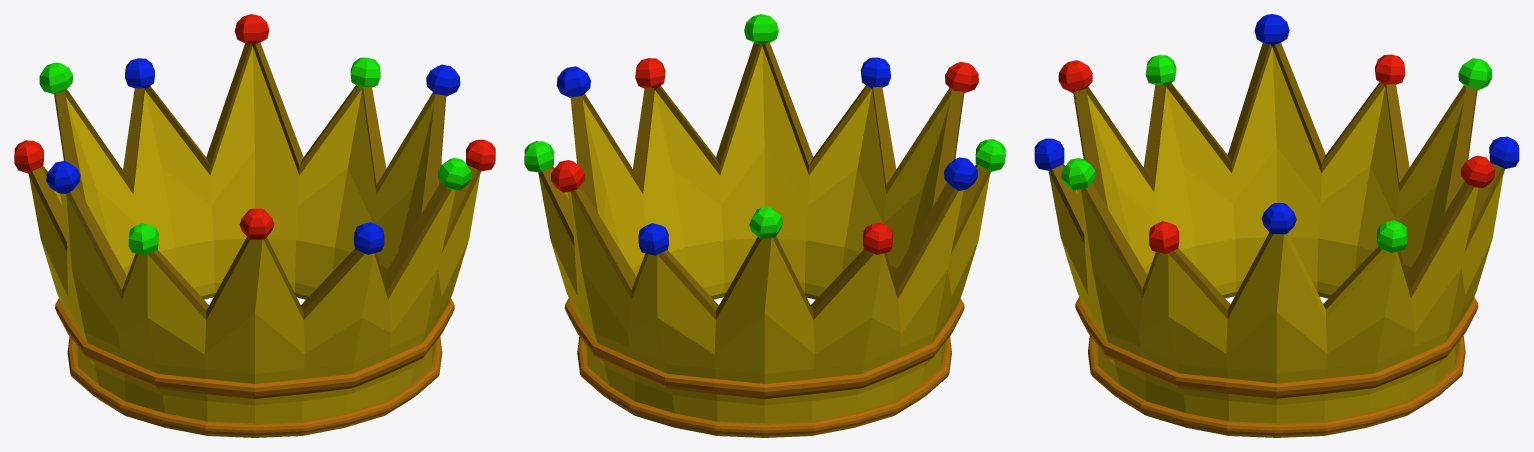
The model's file is Krone.fbx.
The picture shows the model from 3 angles, left to right: view 1: azimuth 30°, elevation 25°; view 2: azimuth 150°, elevation 25°; view 3: azimuth 270°, elevation 25°; orthographic projection.
Visible parts, largest first — view 1: Kreis, Kreis.002; view 2: Kreis, Kreis.002; view 3: Kreis, Kreis.002.
Boxes of the visible parts, bbox=[...] form: Kreis: bbox=[14, 14, 495, 435]; Kreis.002: bbox=[29, 42, 481, 437]; Kreis: bbox=[524, 14, 1005, 435]; Kreis.002: bbox=[538, 42, 990, 437]; Kreis: bbox=[1034, 14, 1519, 435]; Kreis.002: bbox=[1048, 42, 1505, 437].
Bounding box in the file's own units: 257 × 150 × 261.
